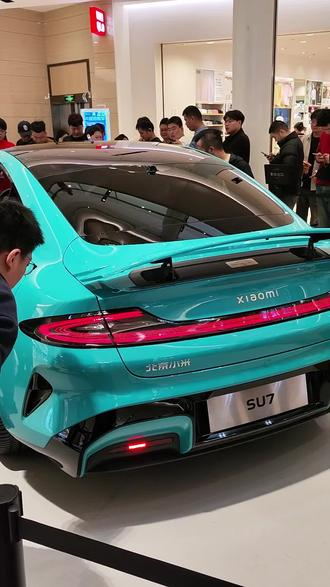su7: (3, 149, 330, 485)
